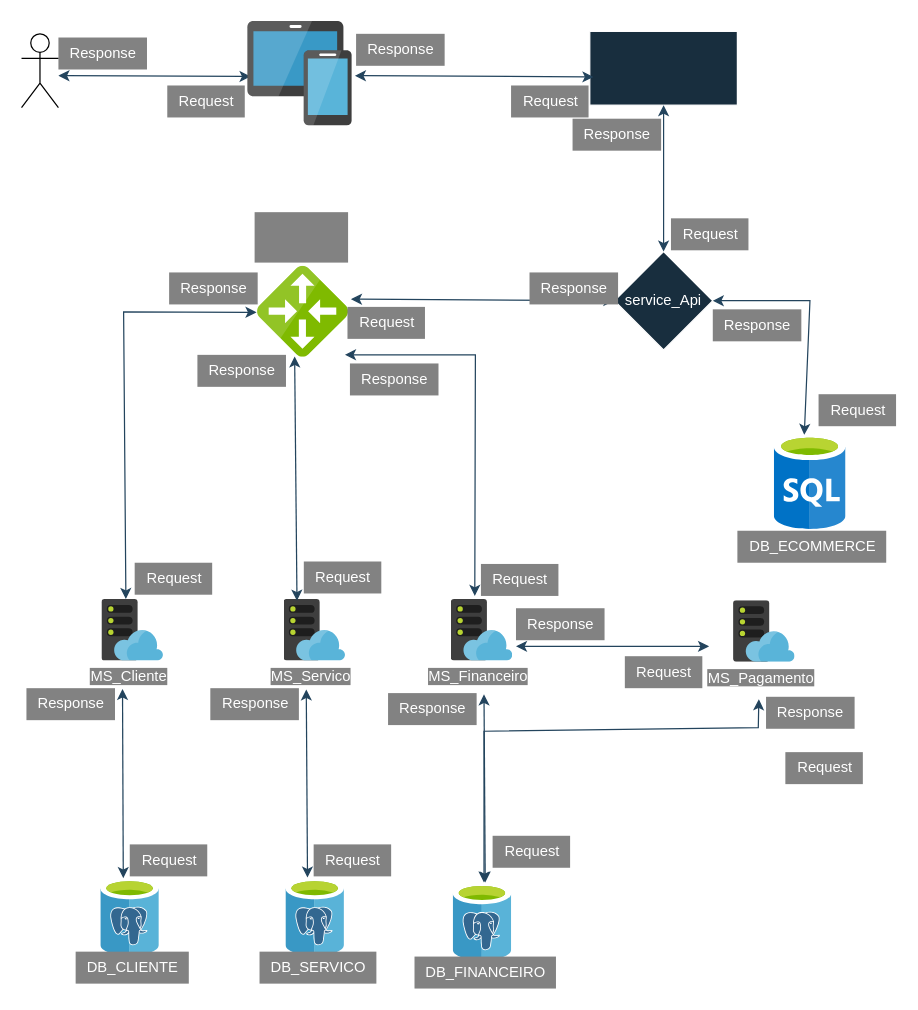
The diagram is 918 pixels wide and 1010 high, and some of its shapes have lost their labels. The box of each missing label's shape, as (x1, y1, x2, y2) in pixels:
Actor: (20, 33, 58, 108)
Controller_Api: (589, 30, 737, 105)
EUREKA GATEWAY: (254, 212, 347, 262)
